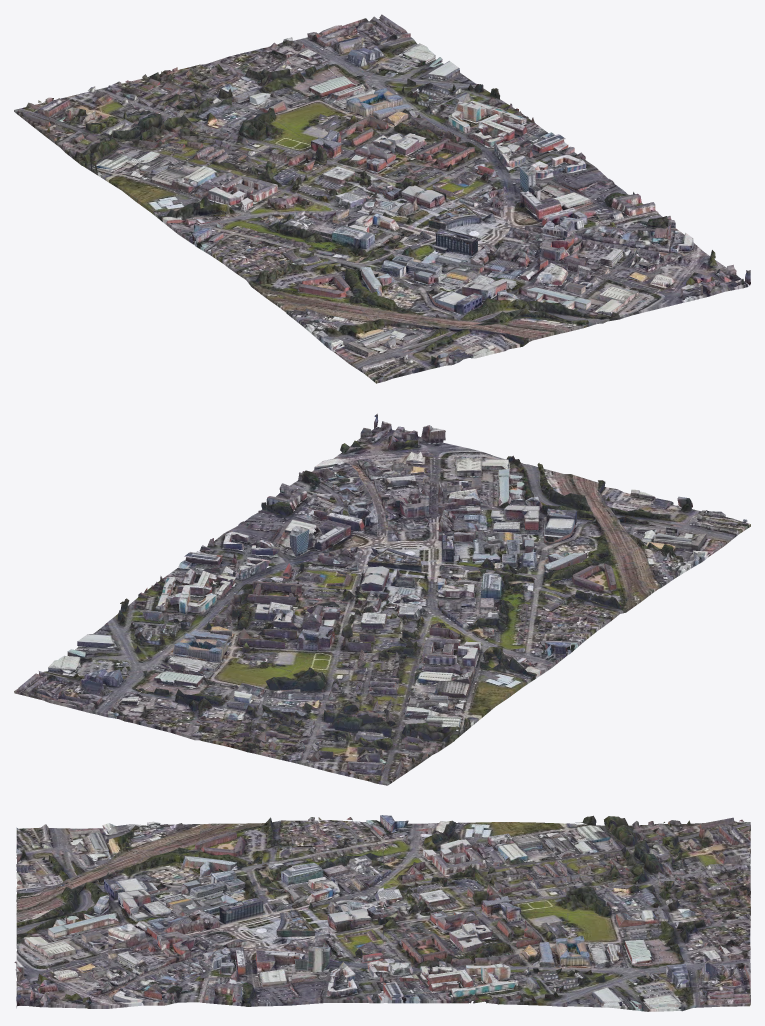
Rendered from uclan_sm-transformed.glb.
3 views of the same model, one above another, from view 1: azimuth 30°, elevation 25°; view 2: azimuth 150°, elevation 25°; view 3: azimuth 270°, elevation 25° (orthographic).
Visible parts, largest first — view 1: Google 3D Tiles; view 2: Google 3D Tiles; view 3: Google 3D Tiles.
Boxes of the visible parts, left/top/right/bottom form: Google 3D Tiles: left=14, top=14, right=750, bottom=383; Google 3D Tiles: left=14, top=413, right=750, bottom=785; Google 3D Tiles: left=14, top=815, right=750, bottom=1011.
Size of the model in its own units: 731 by 63.69 by 1229.
15 materials, 15 textured.
